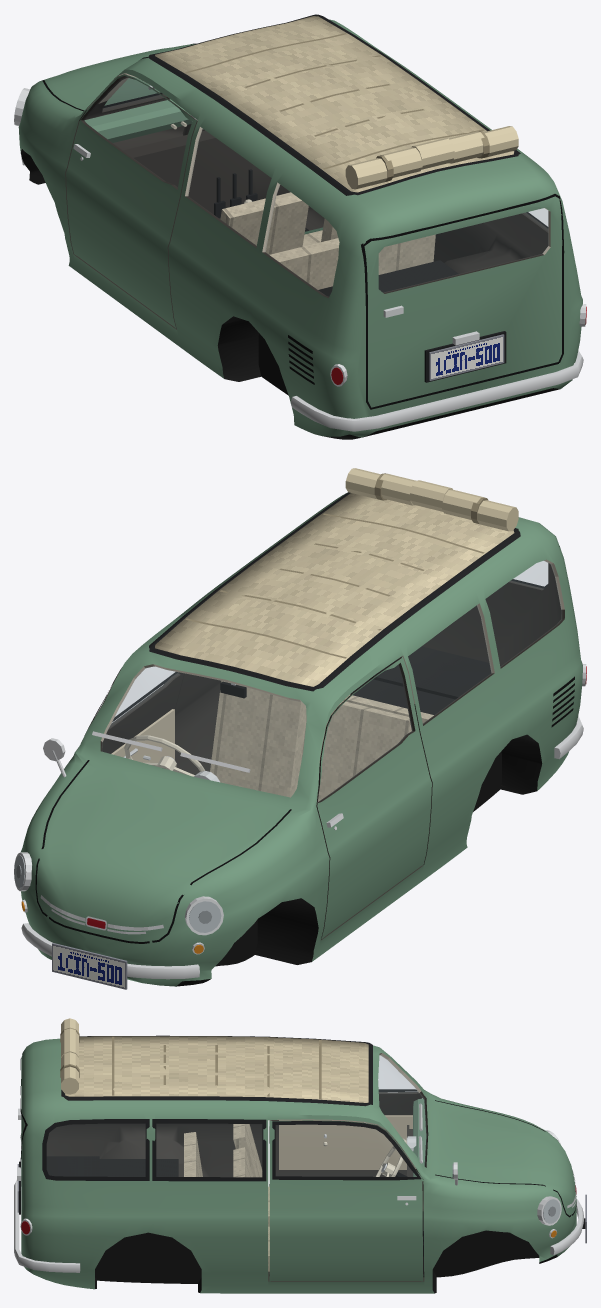
Rendered from giardiniera.glb.
3 views of the same model, one above another, from view 1: azimuth 30°, elevation 25°; view 2: azimuth 150°, elevation 25°; view 3: azimuth 270°, elevation 25° (orthographic). The views are drawn at different scales.
Parts seen in each view (by area): view 1: Body, Roof_Closed, Glass, Interior, Door_L, Door_L_Glass, Roof_Open; view 2: Body, Roof_Closed, Glass, Interior, Door_L, Door_L_Glass, Roof_Open, Door_R, Lights_Head, SteeringWheel; view 3: Body, Roof_Closed, Door_R, Glass, Door_L, Door_R_Glass, Interior, Roof_Open, SteeringWheel.
Part boxes in pixels (box(x1,y1,x2,y2)): Body: box(14, 14, 586, 439); Roof_Closed: box(155, 16, 514, 192); Glass: box(136, 78, 548, 296); Interior: box(84, 99, 458, 296); Door_L: box(66, 74, 197, 329); Door_L_Glass: box(84, 77, 191, 187); Roof_Open: box(345, 126, 518, 189); Body: box(14, 492, 586, 989); Roof_Closed: box(155, 493, 514, 686); Glass: box(102, 561, 561, 796); Interior: box(194, 646, 500, 801); Door_L: box(316, 656, 431, 939); Door_L_Glass: box(318, 665, 412, 801); Roof_Open: box(345, 468, 518, 531); Door_R: box(81, 668, 183, 762); Lights_Head: box(14, 855, 221, 932); SteeringWheel: box(124, 735, 204, 776); Body: box(14, 1035, 586, 1293); Roof_Closed: box(65, 1036, 368, 1102); Door_R: box(269, 1120, 423, 1281); Glass: box(47, 1055, 426, 1176); Door_L: box(269, 1089, 422, 1186); Door_R_Glass: box(276, 1125, 416, 1176); Interior: box(46, 1098, 426, 1279); Roof_Open: box(60, 1018, 79, 1094); SteeringWheel: box(375, 1138, 406, 1176).
Bounding box in the file's own units: 1.35 × 1.32 × 3.29.
Materials: 25 (5 with a texture image).
